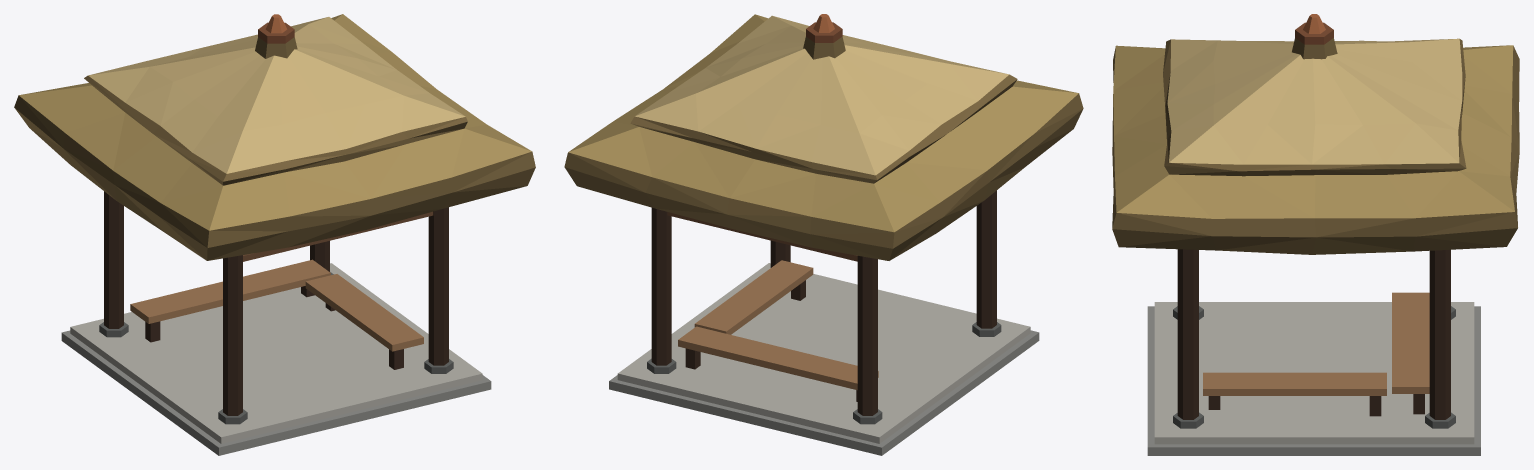
The model's file is pavilion_azumaya.fbx.
3 views of the same model, side by side, from view 1: azimuth 30°, elevation 25°; view 2: azimuth 150°, elevation 25°; view 3: azimuth 270°, elevation 25° (orthographic). The views are drawn at different scales.
Parts seen in each view (by area): view 1: pavilion_azumaya; view 2: pavilion_azumaya; view 3: pavilion_azumaya.
Part boxes in pixels (x1=…): pavilion_azumaya: x1=14, y1=14, x2=535, y2=455; pavilion_azumaya: x1=564, y1=14, x2=1083, y2=455; pavilion_azumaya: x1=1112, y1=14, x2=1519, y2=455.
Size of the model in its own units: 4.19 by 4.21 by 4.21.
